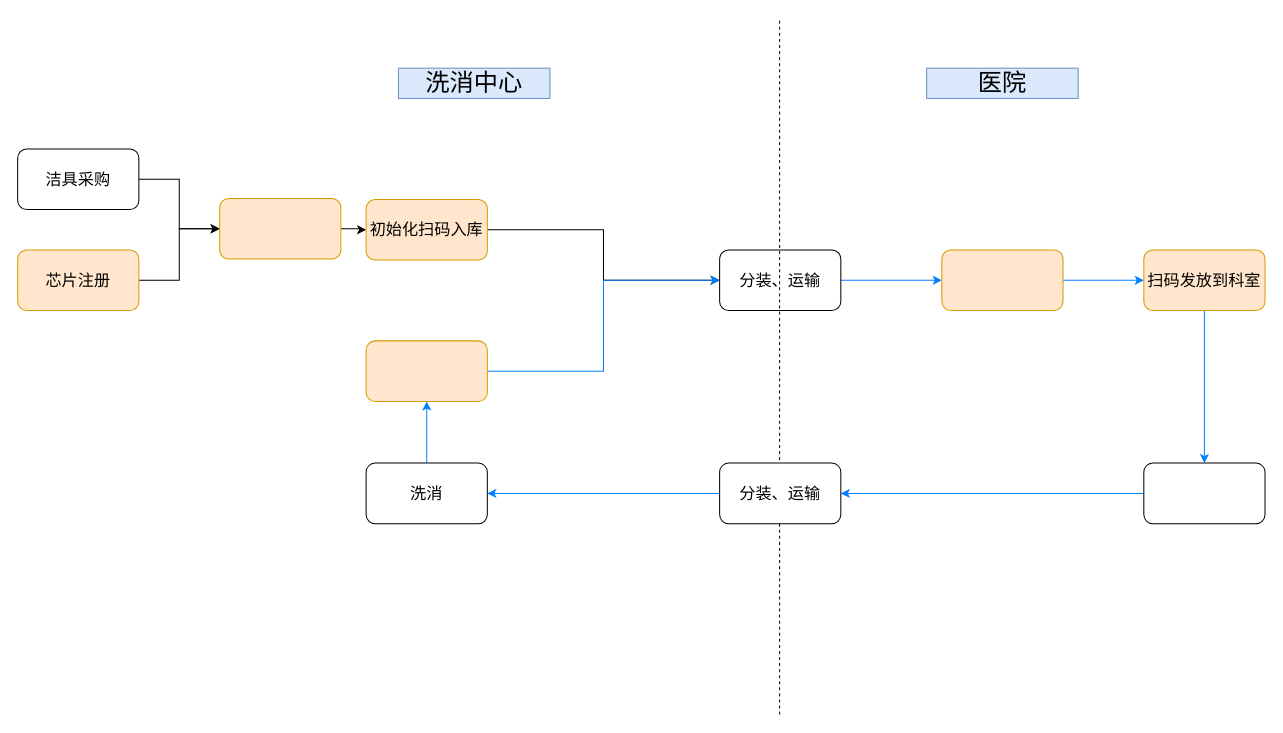
The diagram is 1283 pixels wide and 733 high, and some of its shapes have lost their labels. The centre of each missing label's shape, as x and y in pixels:
"医院扫码接收" belongs at point 1002,280.
"回收" belongs at point 1204,493.
"清洗后扫码入库" belongs at point 426,370.
"芯片植入" belongs at point 280,228.
